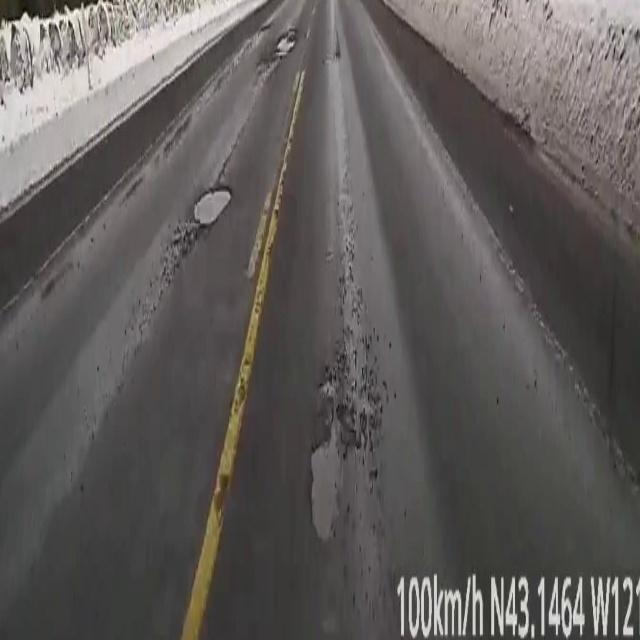pothole: (311, 412, 341, 540), (195, 190, 231, 228), (276, 34, 294, 58)
